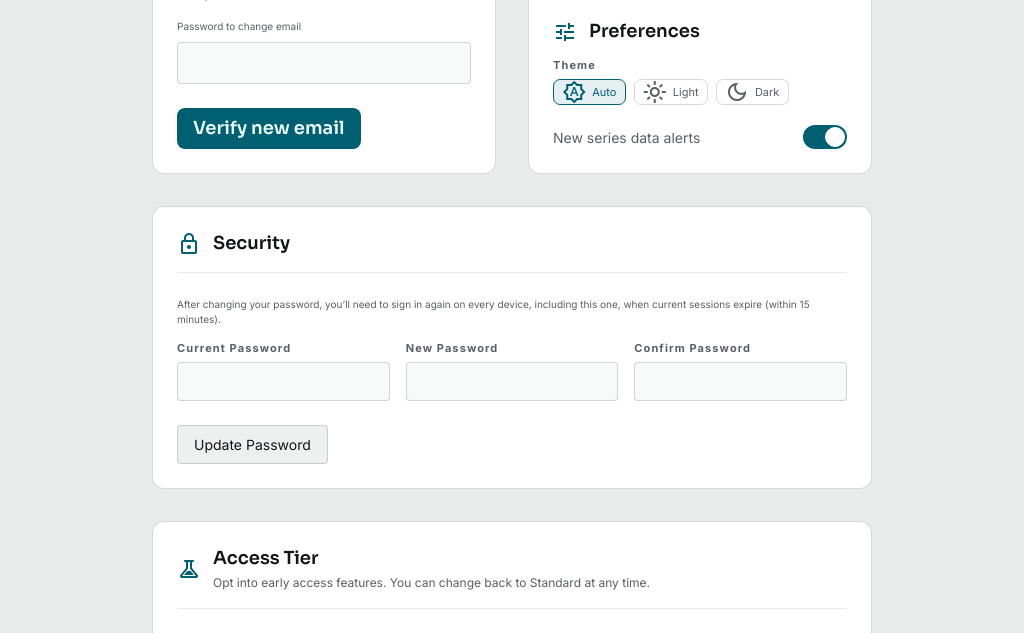
Scenario: SettingsPage › shows fallback message when changePassword rejects with a non-Error value
(page scrolled)
Type "oldpass1" into the password field labelled "Current Password" at x=283, y=382, box [177,362,390,401]
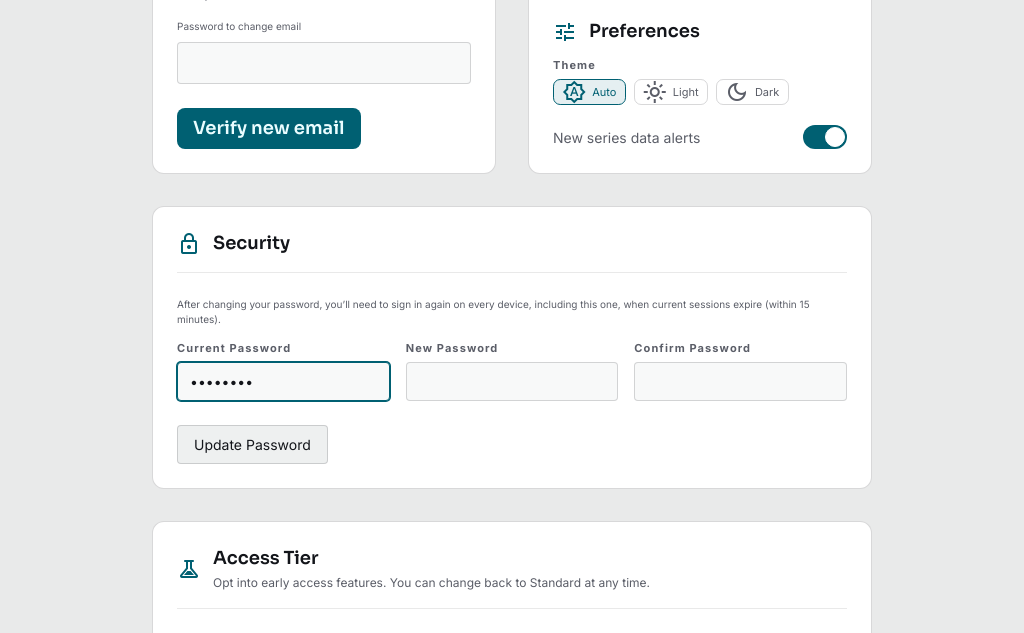
Type "newpass2" into the password field labelled "New Password" at x=512, y=382, box [406,362,618,401]
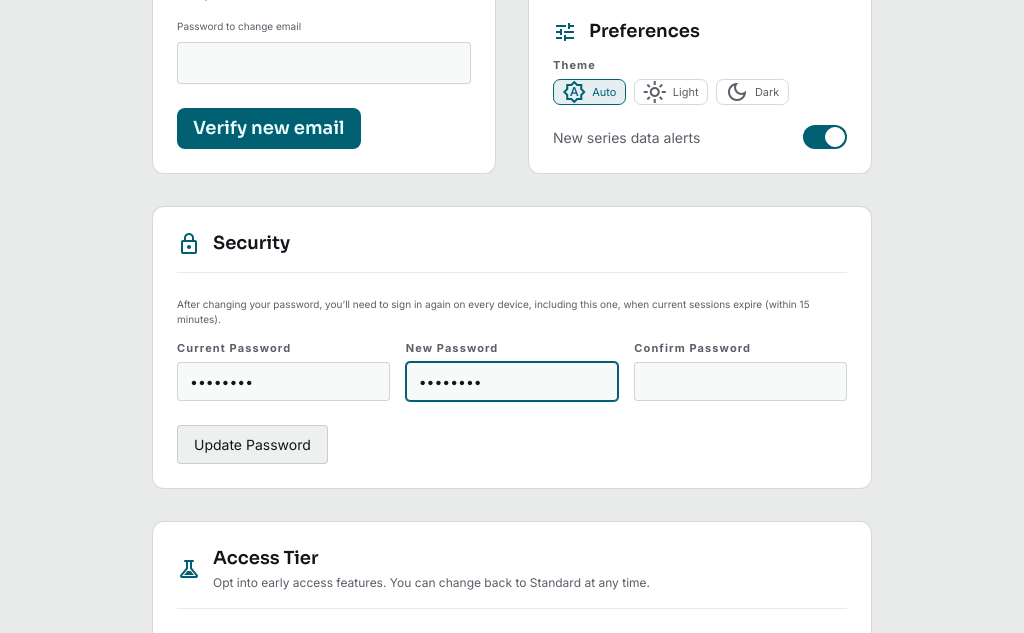
Type "newpass2" into the password field labelled "Confirm Password" at x=741, y=382, box [634,362,847,401]
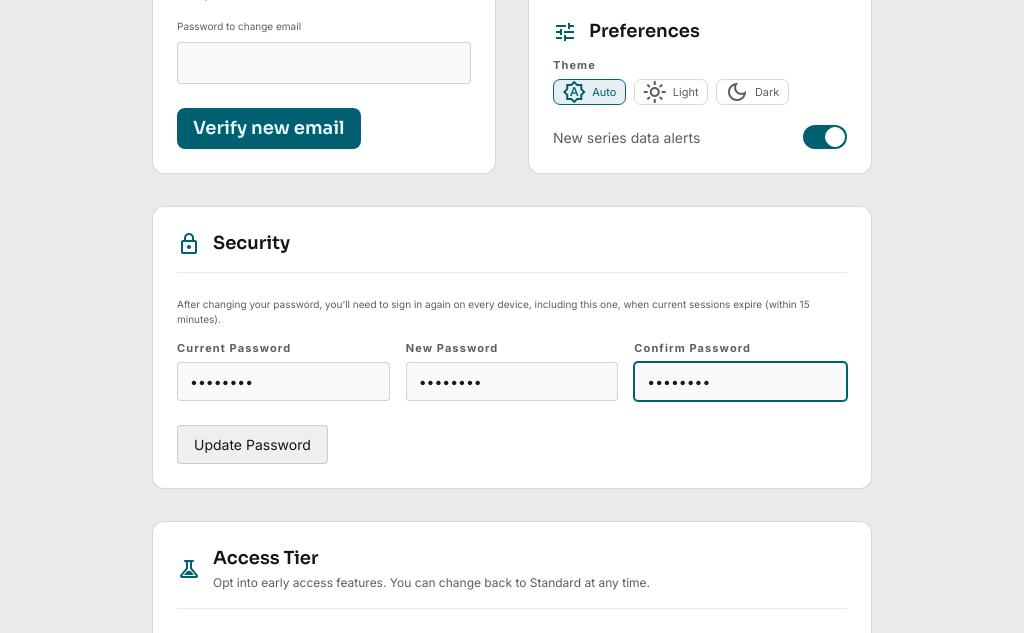
Click the button "Update Password" at x=252, y=445, box [177,425,328,464]
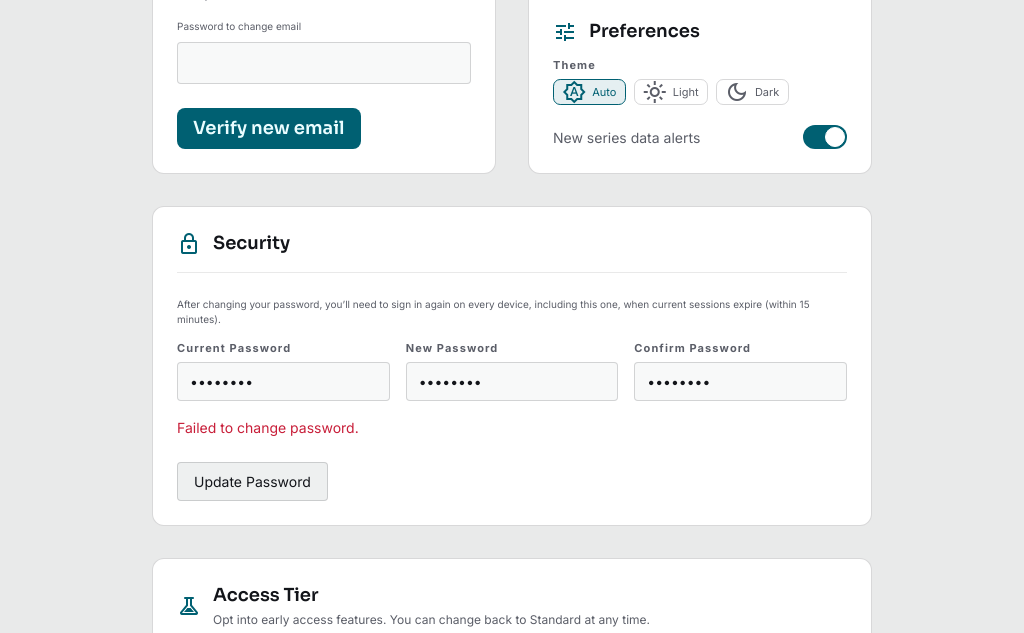
Expected: the text "Failed to change password." is shown, [177,419,359,436]
